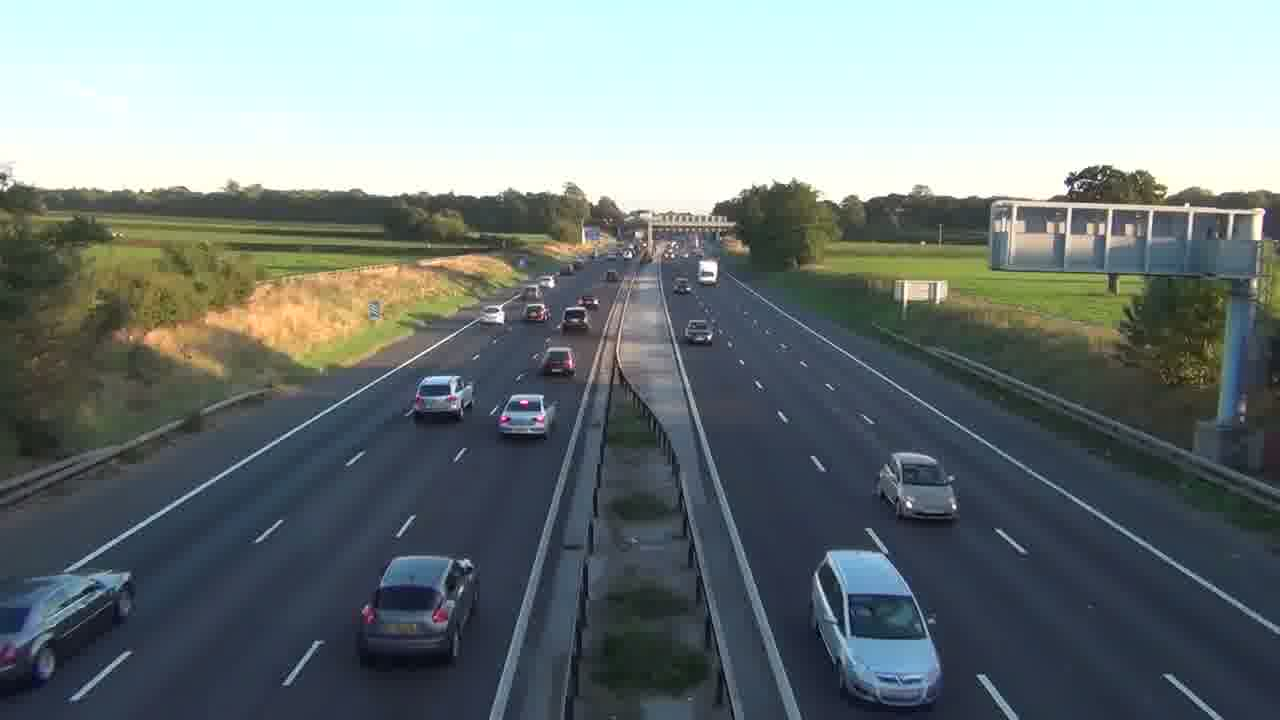car: (810, 547, 944, 709), (0, 569, 136, 693), (354, 554, 480, 666), (875, 451, 960, 522), (410, 373, 473, 423), (496, 393, 549, 439), (541, 346, 576, 376), (684, 319, 714, 345)
truck: (0, 569, 136, 693), (698, 258, 720, 286)
